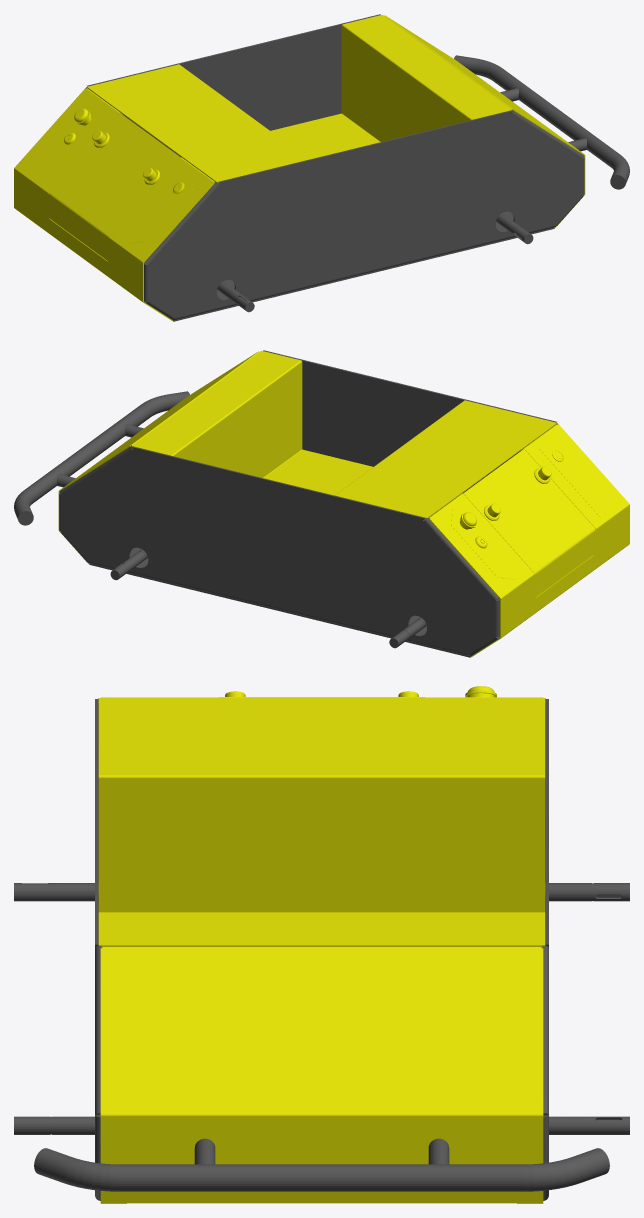
File: clearpath_husky_chassis.dae
3 views of the same model, one above another, from view 1: azimuth 30°, elevation 25°; view 2: azimuth 150°, elevation 25°; view 3: azimuth 270°, elevation 25° (orthographic). The views are drawn at different scales.
Parts seen in each view (by area): view 1: Bumper; view 2: Bumper; view 3: Bumper.
Boxes of the visible parts, x1=… form: Bumper: x1=14, y1=14, x2=629, y2=321; Bumper: x1=14, y1=350, x2=629, y2=657; Bumper: x1=14, y1=686, x2=629, y2=1203.
Size of the model in its own units: 0.8908 by 0.5709 by 0.2275.
